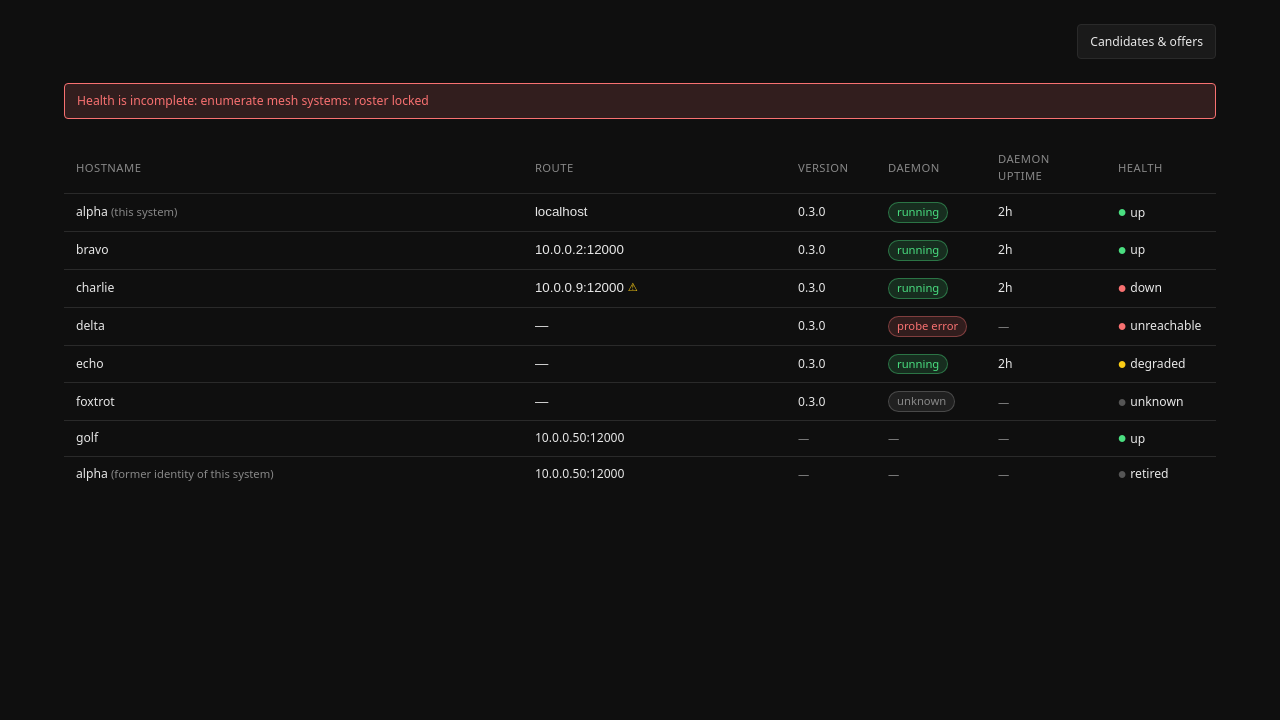
Test: /systems page › renders identical GPUs as separate entries
What coordinates should you click on to do the following:
click the button "bravo"
I would click on:
 (92, 250)
Its box is [76,241,109,258].
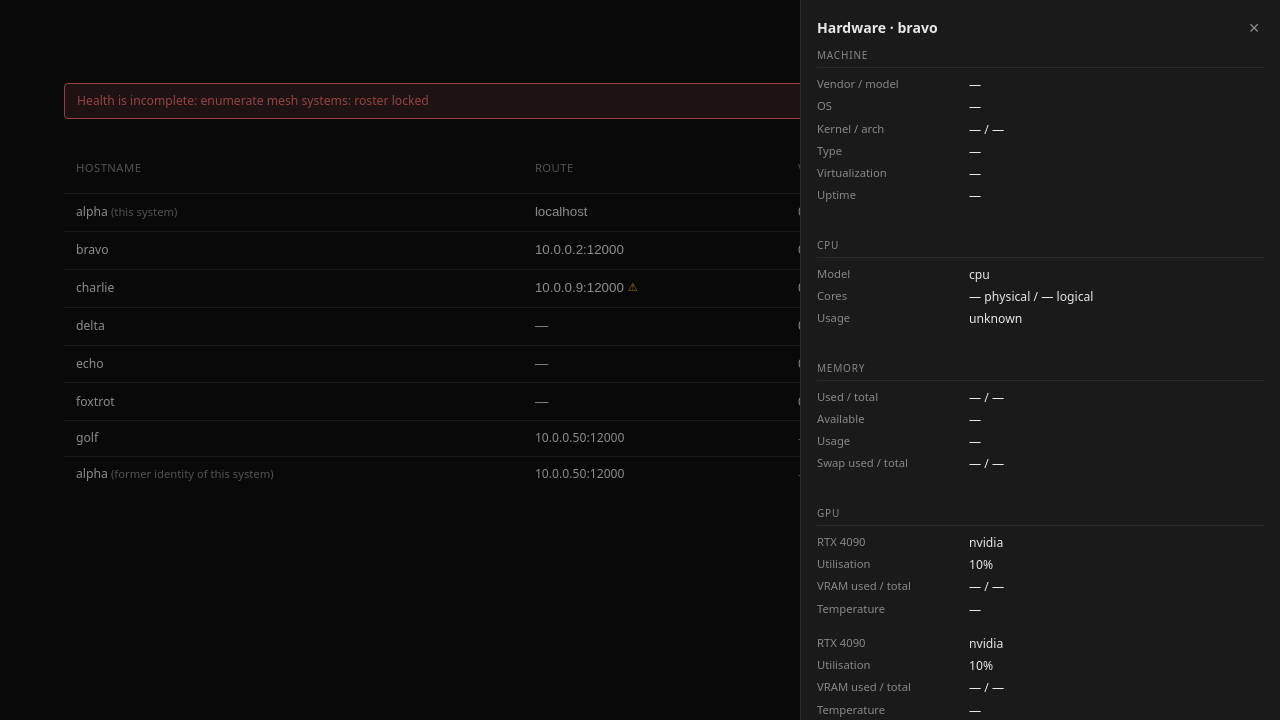
Now the text "RTX 4090" is shown 2 times, box [817,534,866,549]; [817,635,866,650]
